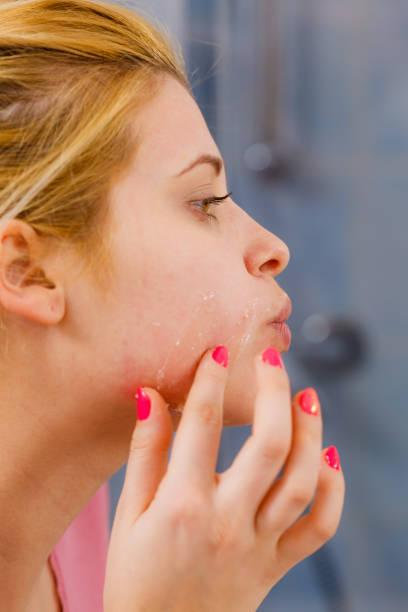Dry-Skin: (127, 212, 253, 375)
